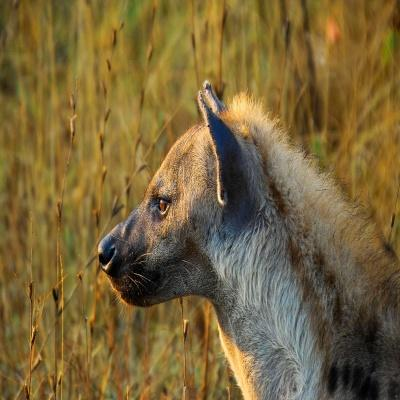hyenas: (76, 78, 400, 400)
